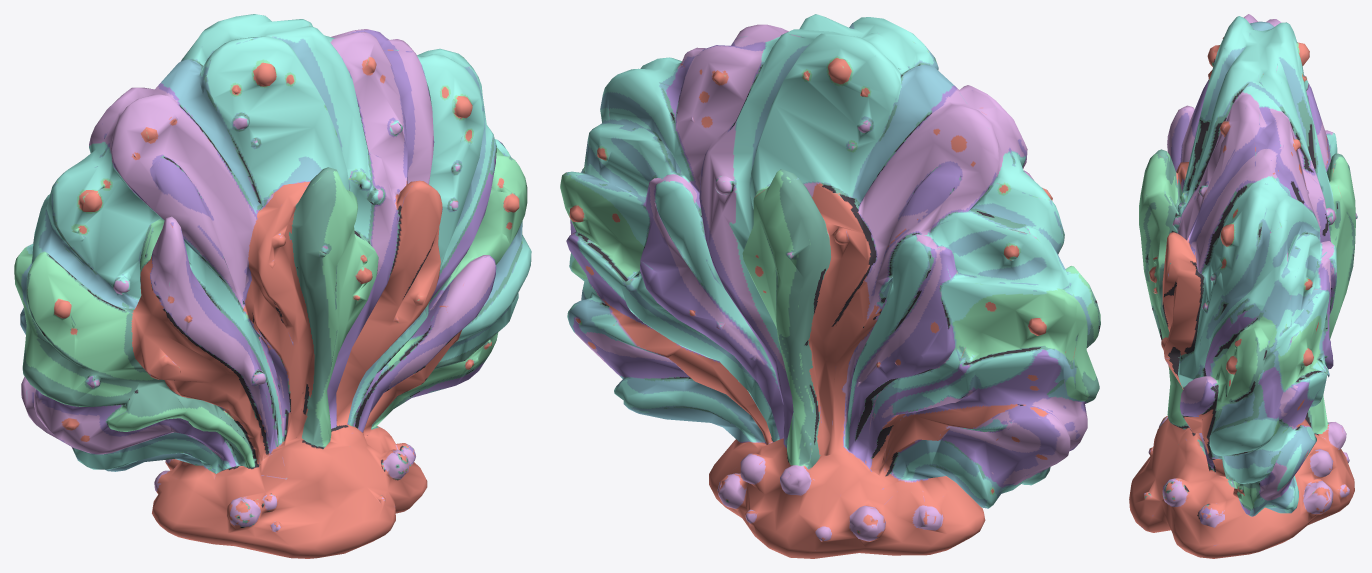
The model's file is fanshell.glb.
3 renders of one model, left to right at view 1: azimuth 30°, elevation 25°; view 2: azimuth 150°, elevation 25°; view 3: azimuth 270°, elevation 25°, orthographic. The views are drawn at different scales.
Parts seen in each view (by area): view 1: Mesh_0; view 2: Mesh_0; view 3: Mesh_0.
Part boxes in pixels (x1,y1,x2,y2): Mesh_0: (14,14,531,558); Mesh_0: (560,14,1100,558); Mesh_0: (1129,14,1357,558).
Bounding box in the file's own units: 1.9 × 1.78 × 0.7771.
Materials: 1 (1 with a texture image).
